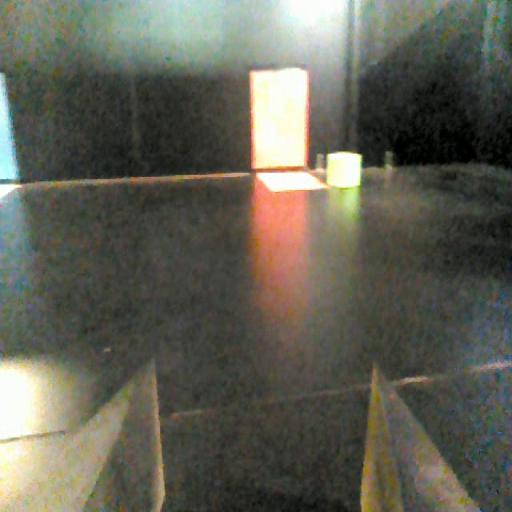cube: (324, 150, 367, 195)
